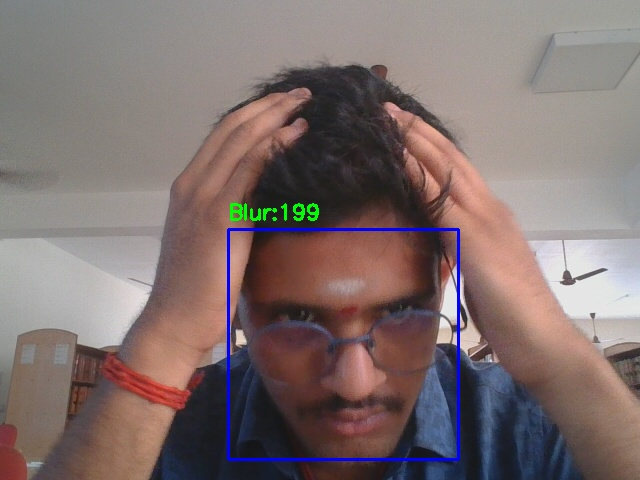real: (228, 229, 458, 459)
